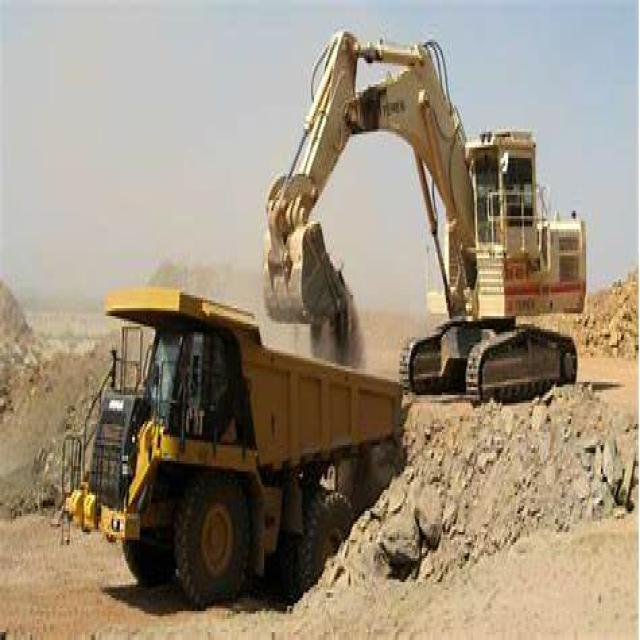dump_truck: (69, 253, 404, 637)
excavator: (236, 8, 614, 416)
